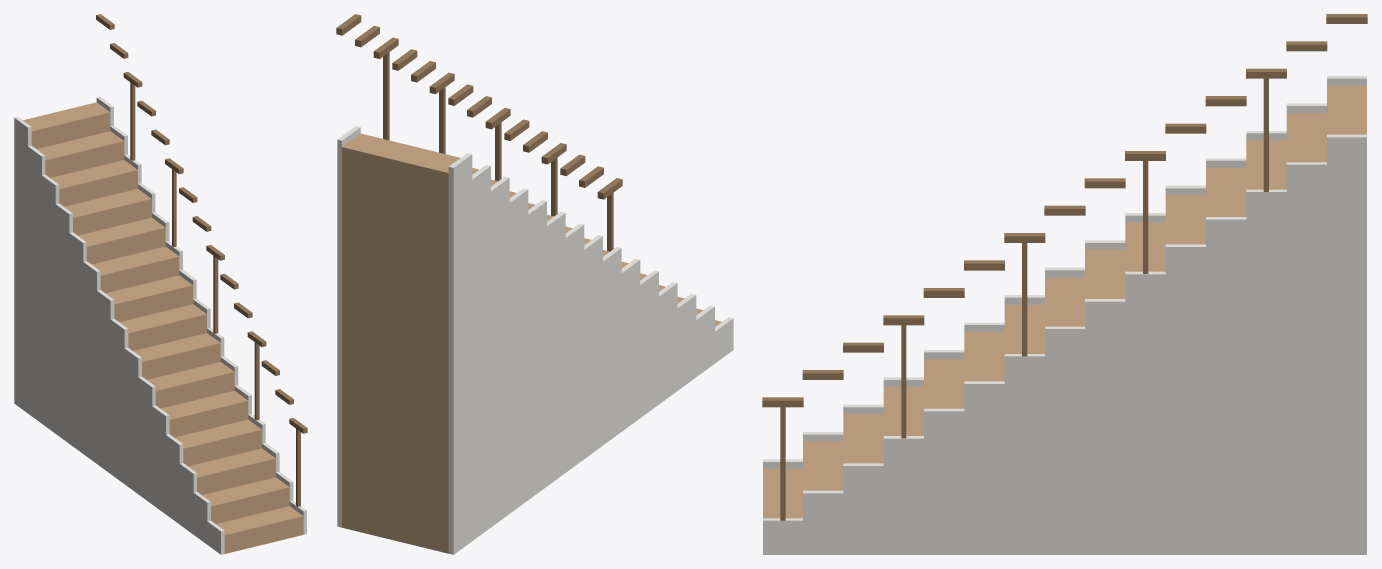
The model's file is stairs.glb.
3 views of the same model, side by side, from view 1: azimuth 30°, elevation 25°; view 2: azimuth 150°, elevation 25°; view 3: azimuth 270°, elevation 25° (orthographic). The views are drawn at different scales.
Parts seen in each view (by area): view 1: stairs; view 2: stairs; view 3: stairs.
Part boxes in pixels (left/top/right/bottom): stairs: left=14, top=14, right=307, bottom=554; stairs: left=336, top=14, right=733, bottom=554; stairs: left=762, top=14, right=1367, bottom=554.
Size of the model in its own units: 0.965 by 3.93 by 4.01.
